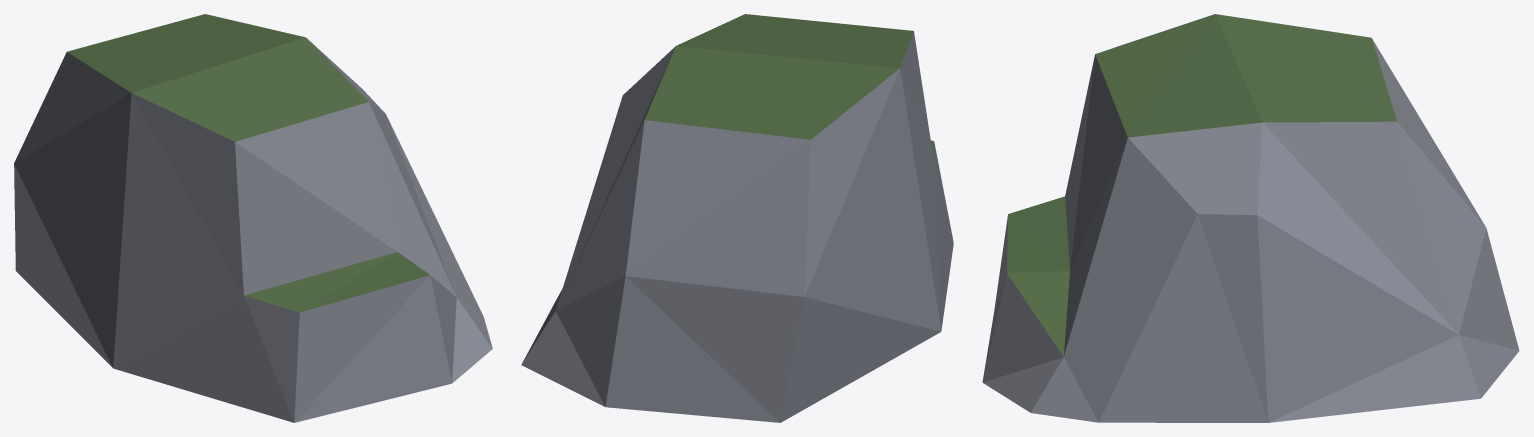
File: Rock_Moss_5.lod2.glb
The picture shows the model from 3 angles, left to right: view 1: azimuth 30°, elevation 25°; view 2: azimuth 150°, elevation 25°; view 3: azimuth 270°, elevation 25°; orthographic projection. The views are drawn at different scales.
Parts seen in each view (by area): view 1: Rock_Moss_5; view 2: Rock_Moss_5; view 3: Rock_Moss_5.
Boxes of the visible parts, x1,y1,x2,y2 form: Rock_Moss_5: (14, 14, 492, 422); Rock_Moss_5: (521, 14, 953, 422); Rock_Moss_5: (982, 14, 1519, 422).
Size of the model in its own units: 0.6587 by 0.571 by 0.9143.
